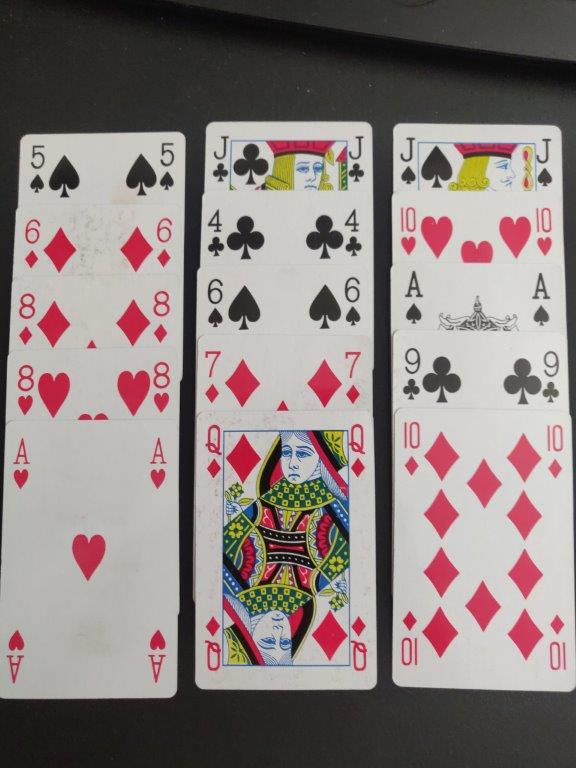10D: (398, 415, 426, 479), (540, 420, 568, 481)
10H: (530, 203, 561, 263), (395, 201, 422, 260)
4C: (203, 207, 231, 264), (342, 205, 364, 262)
5S: (22, 139, 49, 197), (157, 137, 179, 194)
6D: (22, 212, 43, 275), (154, 212, 175, 272)
6S: (338, 269, 365, 333), (203, 272, 228, 334)
7D: (337, 346, 366, 407), (199, 344, 226, 407)
8D: (149, 285, 176, 349), (13, 287, 38, 352)
8H: (11, 361, 41, 418), (149, 359, 174, 414)
9C: (399, 340, 424, 408), (539, 346, 564, 405)
AH: (144, 432, 173, 492), (7, 434, 37, 491)
AS: (399, 267, 427, 329), (527, 268, 554, 329)
JC: (206, 133, 234, 191), (345, 131, 369, 187)
JS: (394, 134, 422, 189), (531, 135, 558, 191)
QD: (200, 420, 230, 486), (344, 419, 371, 481)
